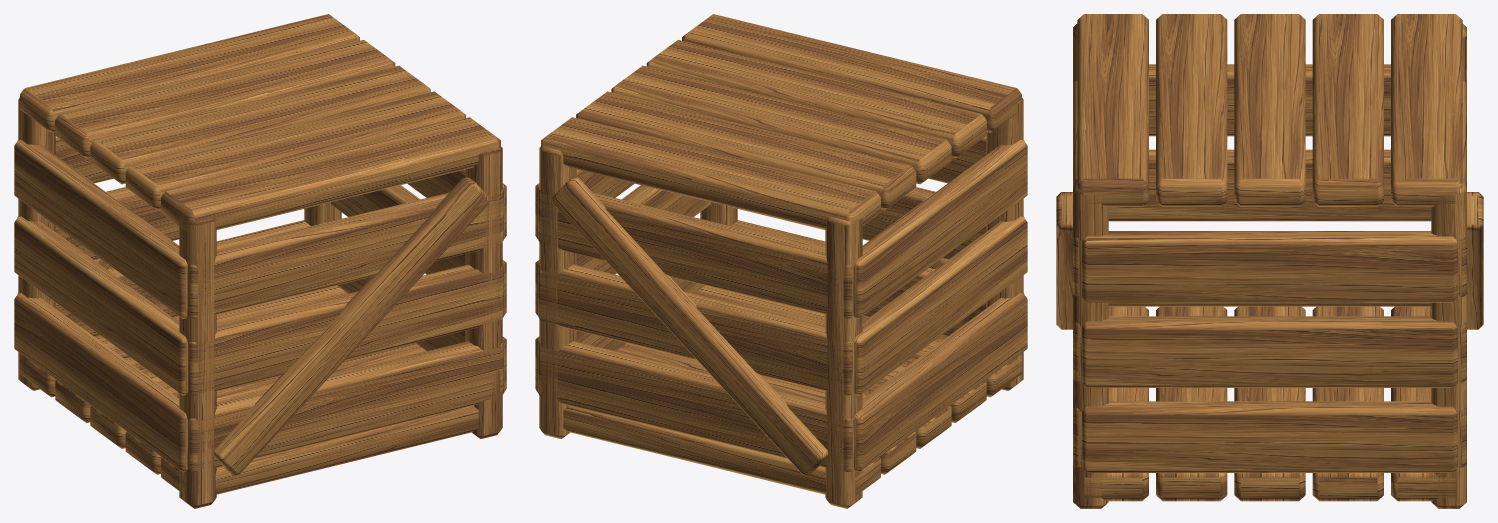
Rendered from 18_Caja_Cerrada.obj.
The picture shows the model from 3 angles, left to right: view 1: azimuth 30°, elevation 25°; view 2: azimuth 150°, elevation 25°; view 3: azimuth 270°, elevation 25°; orthographic projection. The views are drawn at different scales.
Parts seen in each view (by area): view 1: 18_Caja_Cerrada_Wood; view 2: 18_Caja_Cerrada_Wood; view 3: 18_Caja_Cerrada_Wood.
Part boxes in pixels (x1=…): 18_Caja_Cerrada_Wood: x1=14, y1=14, x2=506, y2=508; 18_Caja_Cerrada_Wood: x1=535, y1=14, x2=1027, y2=508; 18_Caja_Cerrada_Wood: x1=1056, y1=14, x2=1483, y2=508.
Bounding box in the file's own units: 0.94 × 0.815 × 0.955.
Materials: 1 (1 with a texture image).
